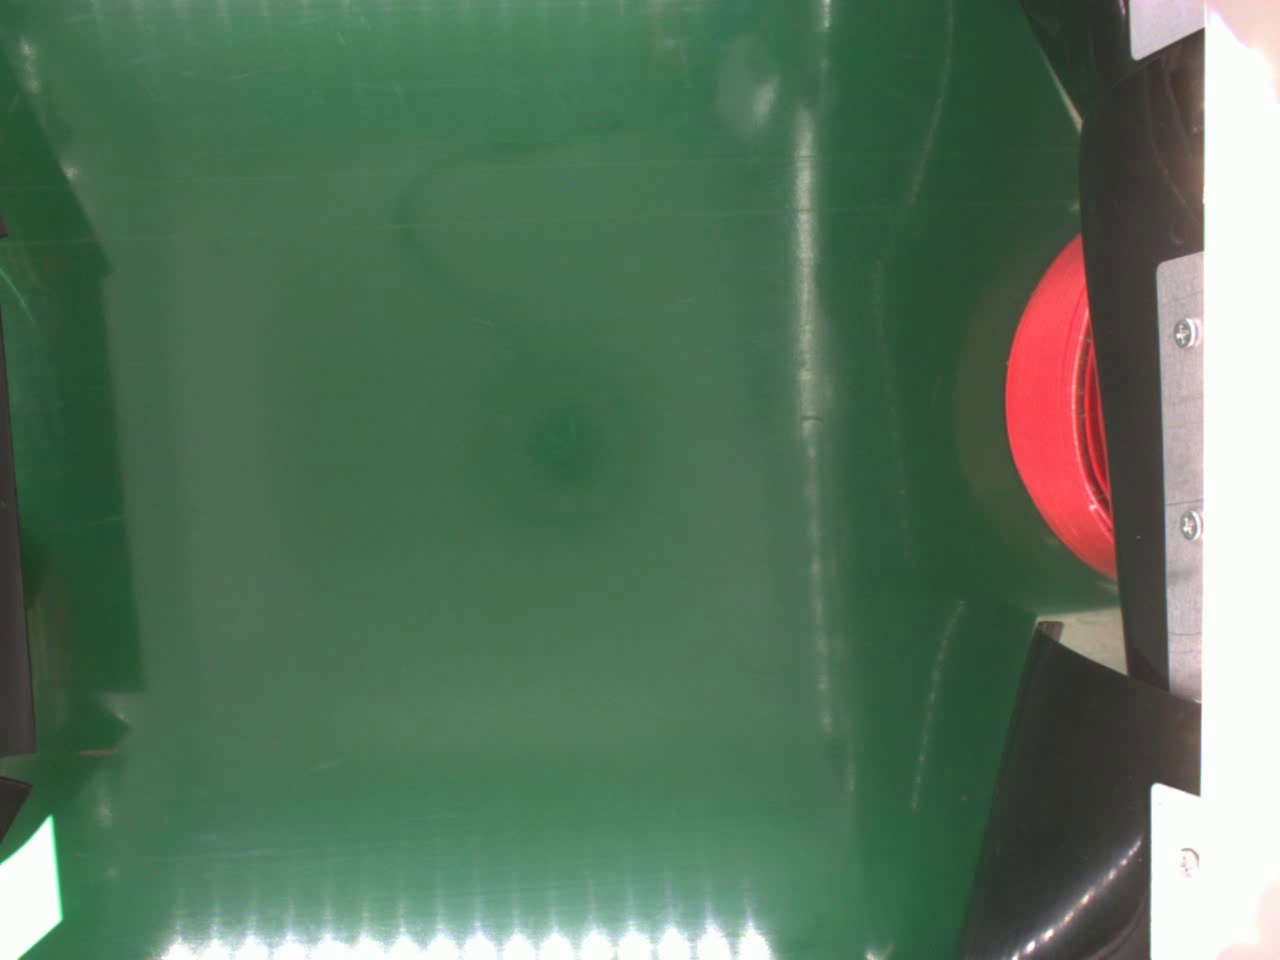red: (1000, 227, 1115, 583)
